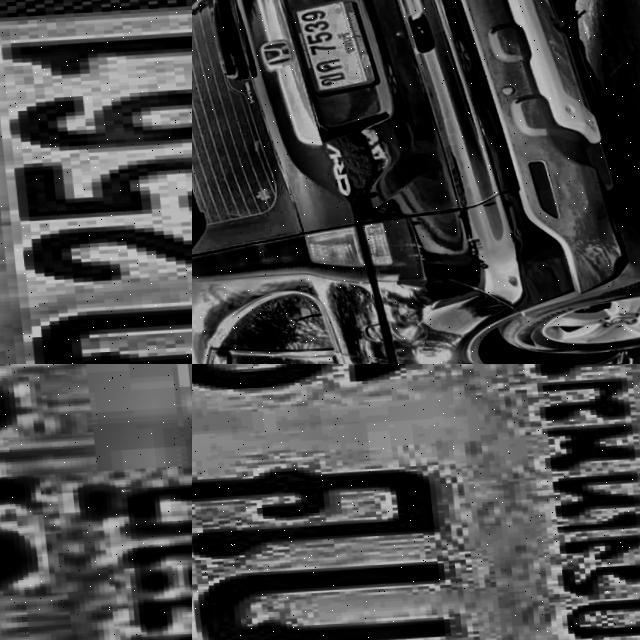license-plate: (192, 364, 640, 640), (0, 0, 192, 364), (0, 364, 192, 640), (286, 0, 375, 98)
